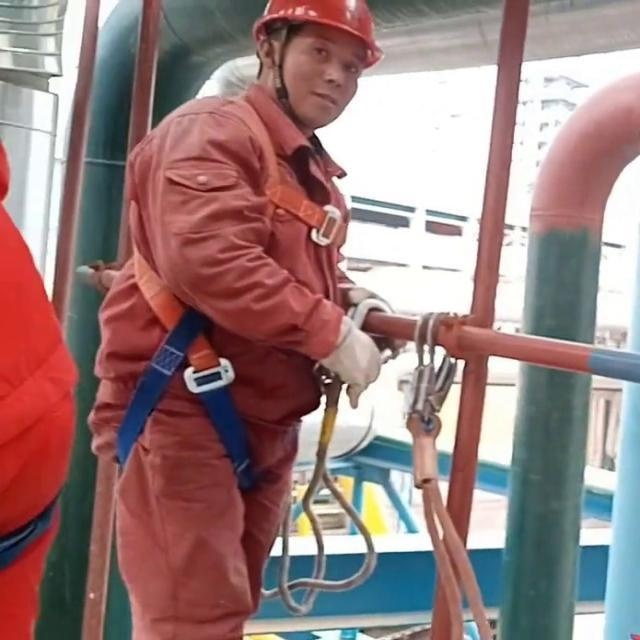Arnes_seguridad: (95, 89, 349, 488)
